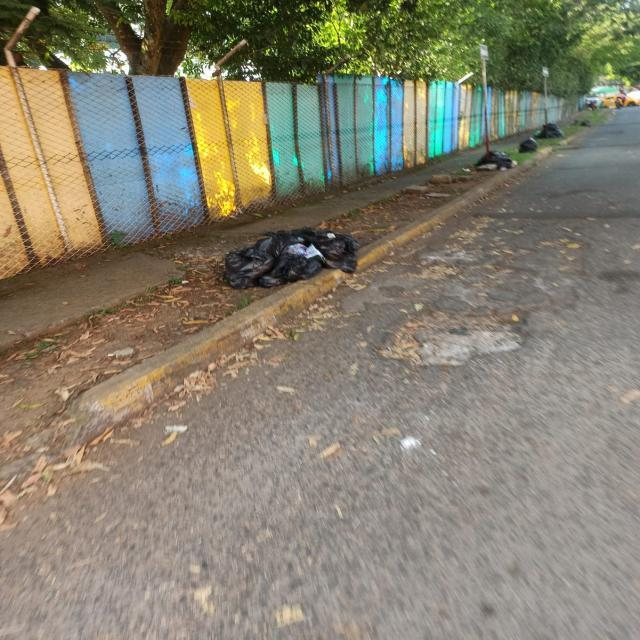Trashbag: (214, 222, 360, 290), (472, 149, 515, 175), (520, 136, 542, 156), (537, 125, 565, 140)
